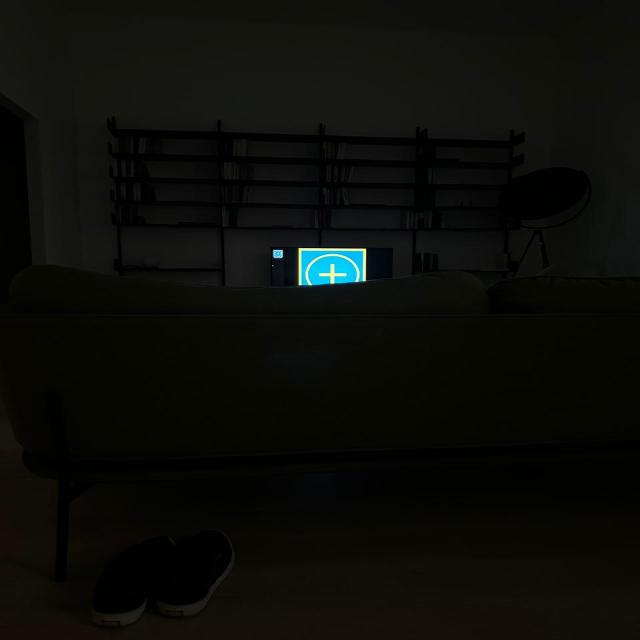Marker: (299, 248, 366, 285), (274, 250, 282, 258)
